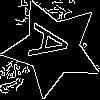A: (28, 23, 80, 66)
